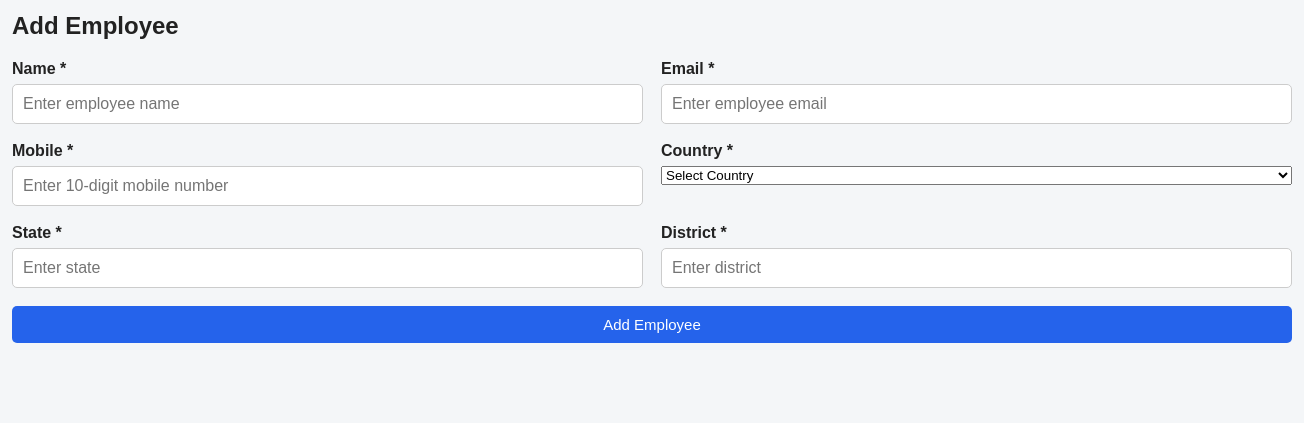
Test: EmployeeForm › shows required validation errors when empty form is submitted
Click the button "Add Employee".
click(652, 324)  # box [12,306,1292,343]
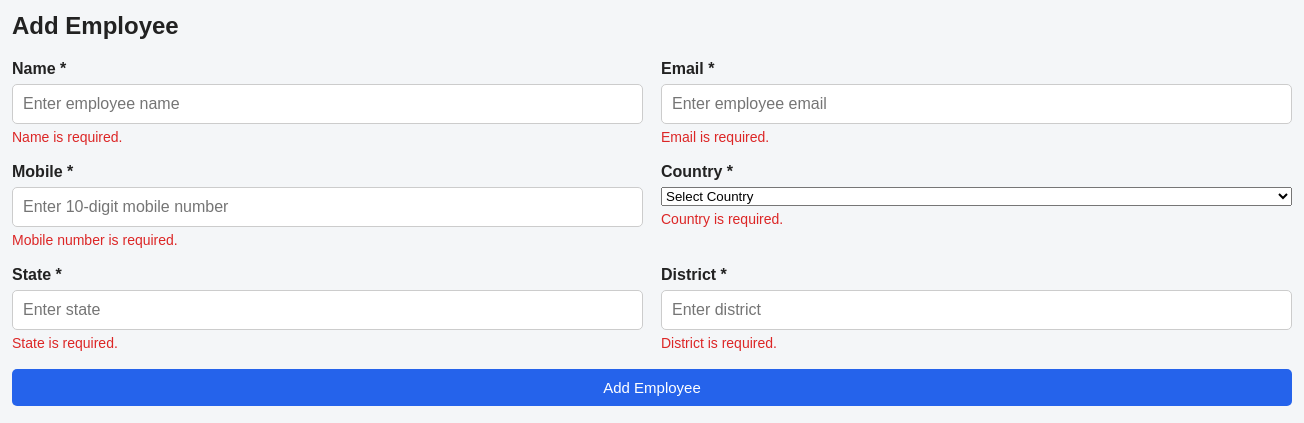
Check: the text "Name is required." is shown, box [12,129,122,145]
Check: the text "Email is required." is shown, box [661,129,769,145]
Check: the text "Mobile number is required." is shown, box [12,232,178,248]
